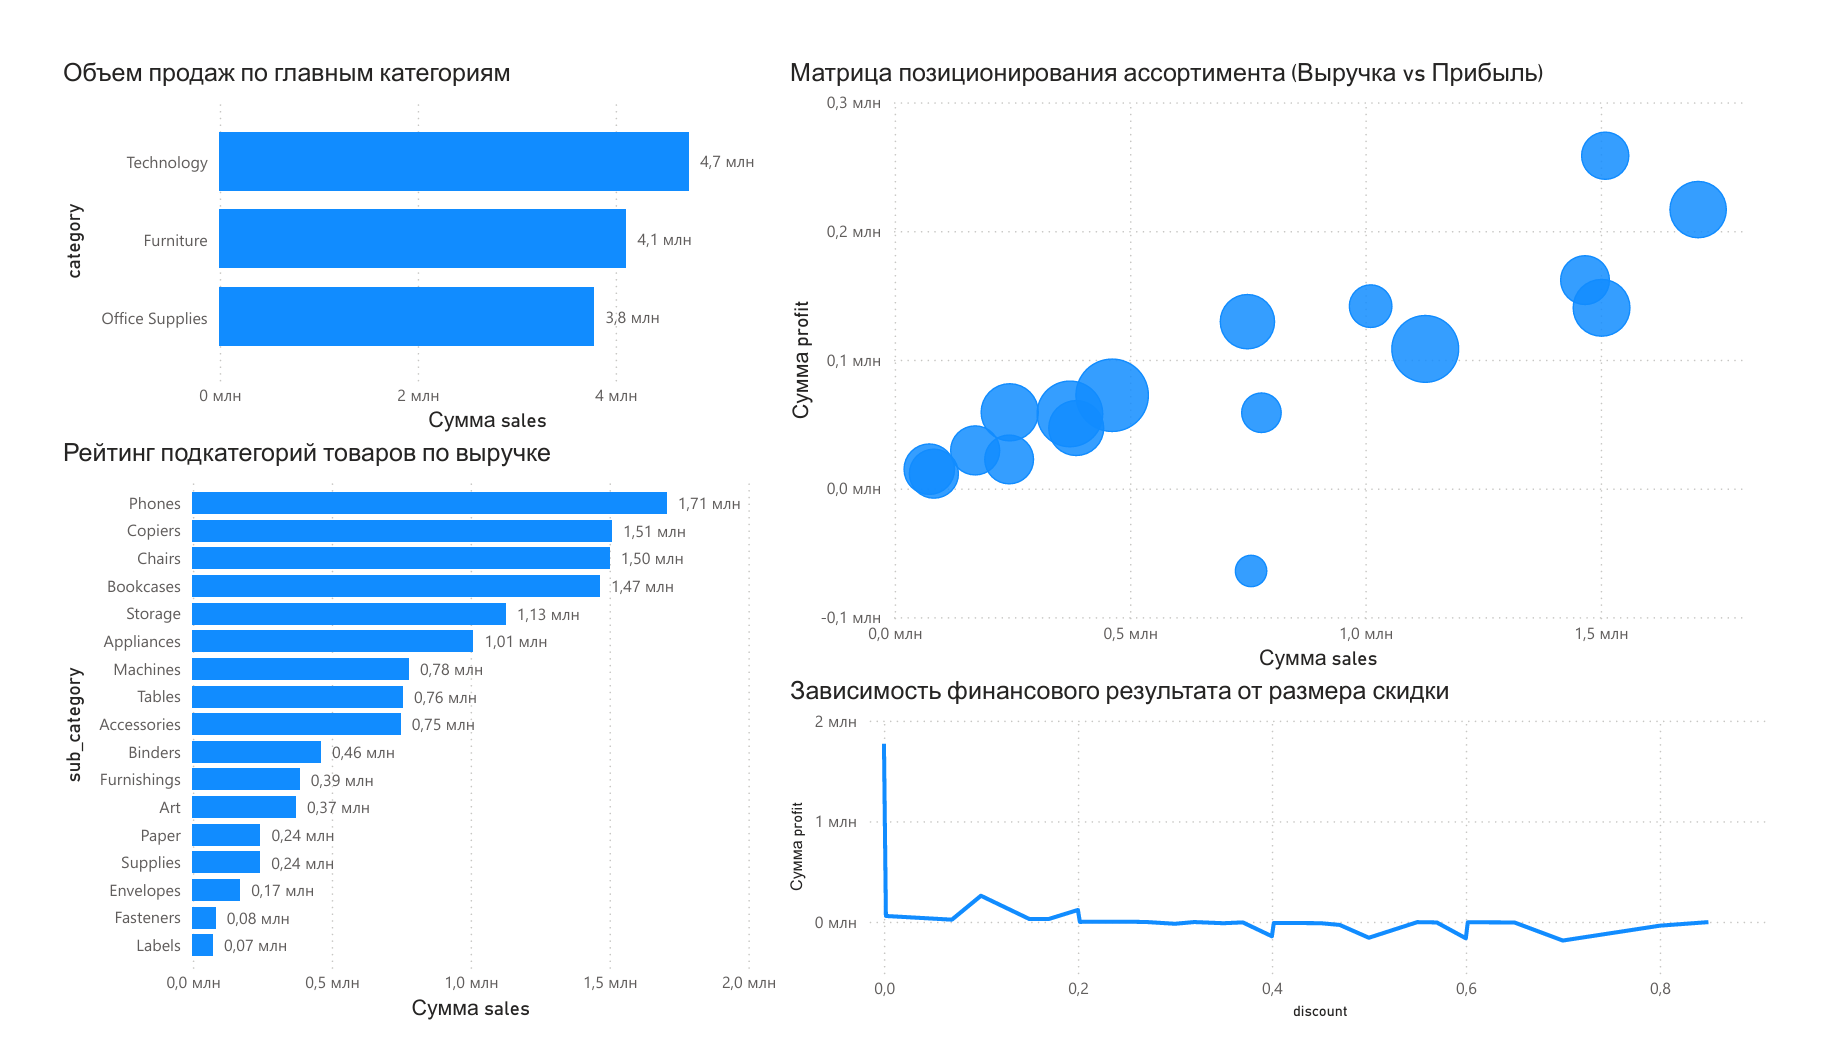

The dashboard page shown, as its layout file describes it:
{"tool":"powerbi","page":{"name":"Product Performance","canvas":[1280,720],"ordinal":1},"visuals":[{"type":"clusteredBarChart","title":"Объем продаж по главным категориям","fields":{"Y":["Sum(superstore_cleaned_complete.sales)"],"Category":["superstore_cleaned_complete.category"]},"box":[0,0,540.6,282.6],"z":0},{"type":"clusteredBarChart","title":"Рейтинг подкатегорий товаров по выручке","fields":{"Category":["superstore_cleaned_complete.sub_category"],"Y":["Sum(superstore_cleaned_complete.sales)"]},"box":[0,282.6,540.6,437.7],"z":1000},{"type":"scatterChart","title":"Матрица позиционирования ассортимента (Выручка vs Прибыль)","fields":{"X":["Sum(superstore_cleaned_complete.sales)"],"Y":["Sum(superstore_cleaned_complete.profit)"],"Category":["superstore_cleaned_complete.sub_category"],"Size":["Count(superstore_cleaned_complete.order_id)"]},"box":[540.7,0,739.6,459.7],"z":2000},{"type":"lineChart","title":"Зависимость финансового результата от размера скидки","fields":{"Category":["superstore_cleaned_complete.discount"],"Y":["Sum(superstore_cleaned_complete.profit)"]},"box":[540.7,459.7,739.6,260.7],"z":3000}]}

Visuals, with their boxes in screenshot pixels (x1, y1, x2, y2), scaled from the page's 1280x720 canvas onto the 1835x1060 screenshot:
"Объем продаж по главным категориям" clusteredBarChart: Rect(0, 0, 775, 416)
"Рейтинг подкатегорий товаров по выручке" clusteredBarChart: Rect(0, 416, 775, 1059)
"Матрица позиционирования ассортимента (Выручка vs Прибыль)" scatterChart: Rect(775, 0, 1834, 677)
"Зависимость финансового результата от размера скидки" lineChart: Rect(775, 677, 1834, 1059)
